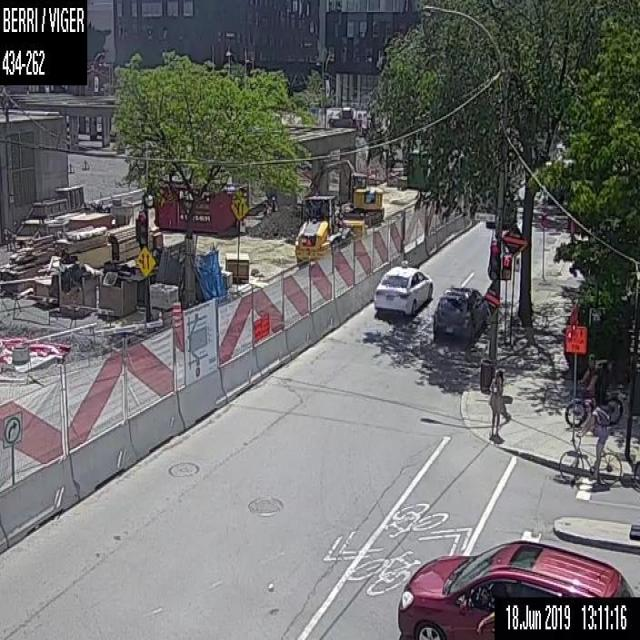construction: (563, 319, 585, 436)
cyclist: (558, 397, 623, 484), (563, 352, 623, 425)
pedestrian: (488, 366, 507, 438)
vehicle: (396, 537, 633, 639), (295, 190, 366, 266), (372, 261, 434, 315), (432, 283, 487, 341), (484, 197, 516, 227)
